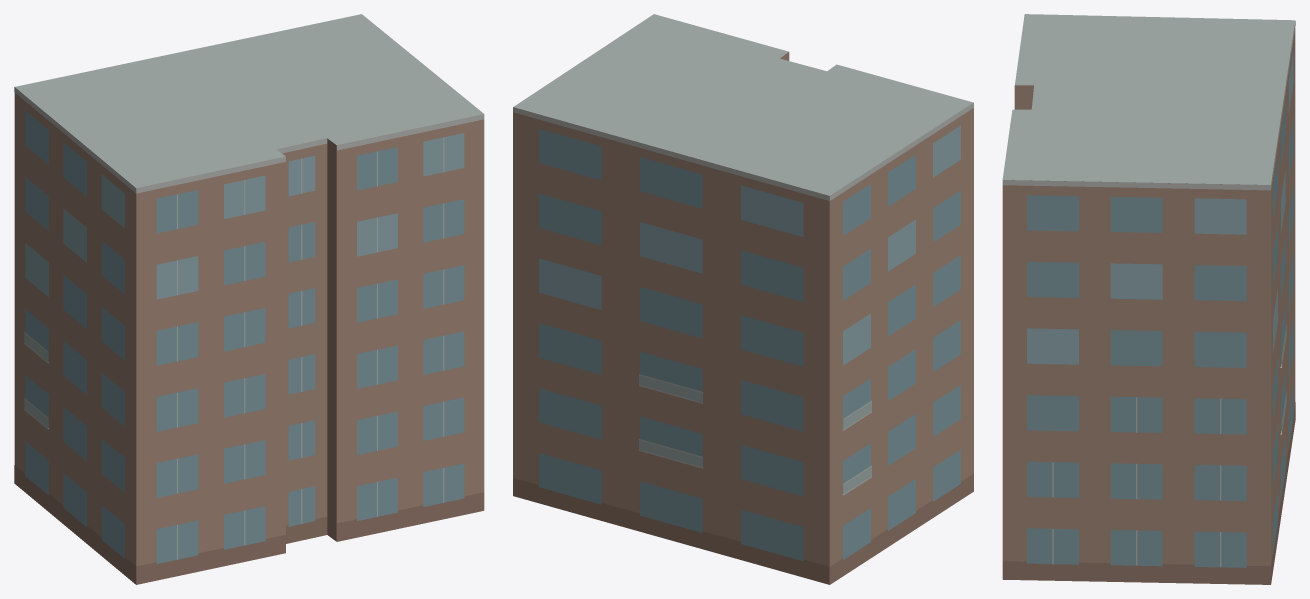
File: survey-upis-32903576.glb
3 renders of one model, left to right at view 1: azimuth 30°, elevation 25°; view 2: azimuth 150°, elevation 25°; view 3: azimuth 270°, elevation 25°, orthographic. The views are drawn at different scales.
Visible parts, largest first — view 1: survey-upis-32903576.tmp; view 2: survey-upis-32903576.tmp; view 3: survey-upis-32903576.tmp.
Part boxes in pixels (x1,y1,x2,y2): survey-upis-32903576.tmp: (14,14,484,584); survey-upis-32903576.tmp: (513,14,973,584); survey-upis-32903576.tmp: (1002,14,1295,584).
Size of the model in its own units: 16.8 by 18.3 by 12.16.
